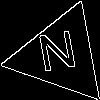N: (35, 30, 81, 81)
